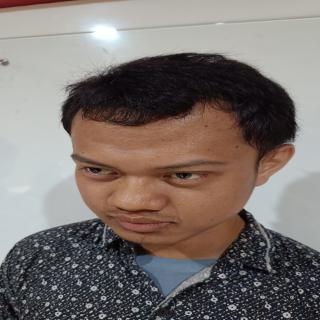Marah: (64, 91, 266, 265)
